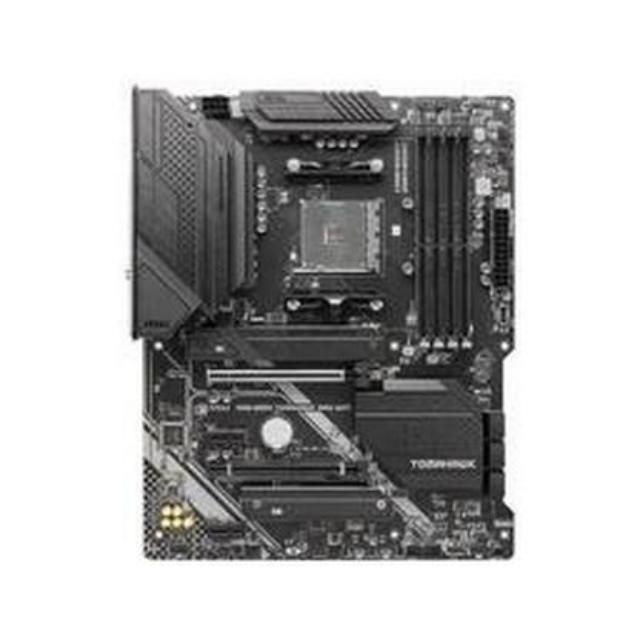Mainboard: (120, 75, 526, 577)
